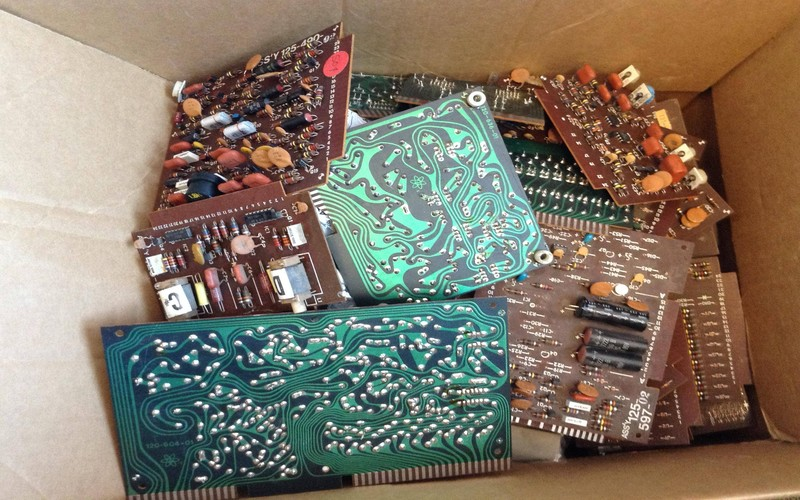Cirtuit-Board: (91, 292, 531, 500), (312, 91, 566, 305), (145, 35, 358, 216), (526, 46, 715, 210)
